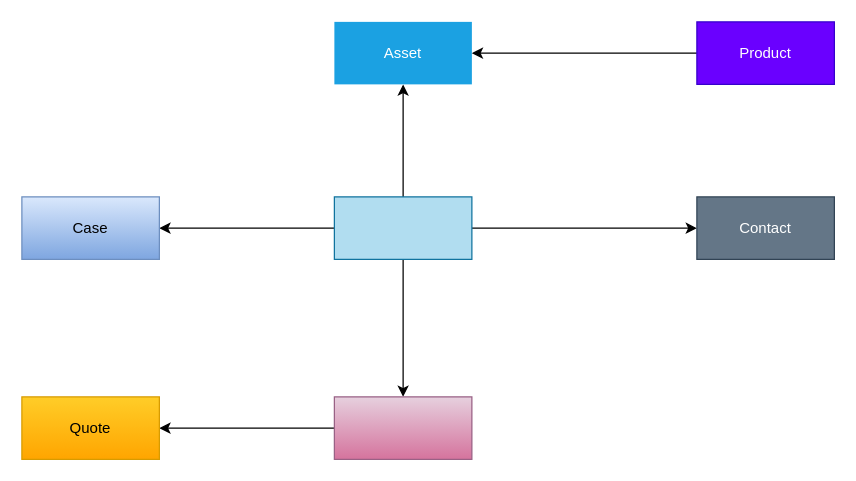
This 856x481 diagram has some shape labels left out. Each missing label, with the centre of its shape:
"Account" belongs at (x=402, y=227).
"Opportunity" belongs at (x=402, y=427).
